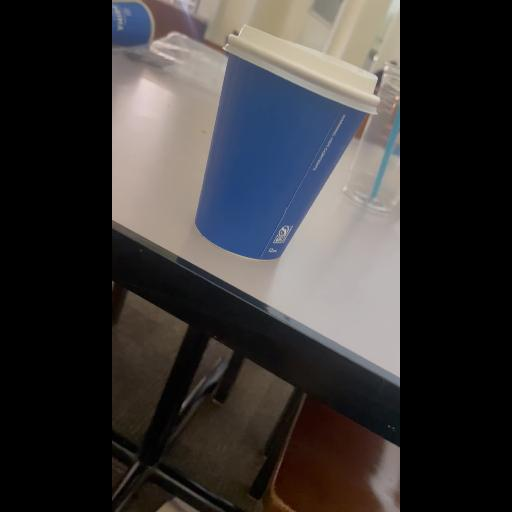lp_paper_cup: (193, 24, 379, 300), (112, 1, 156, 47)
